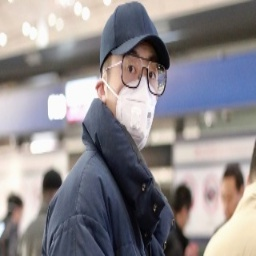correctlyWear: (95, 44, 167, 151)
noWear: (219, 174, 244, 220)
